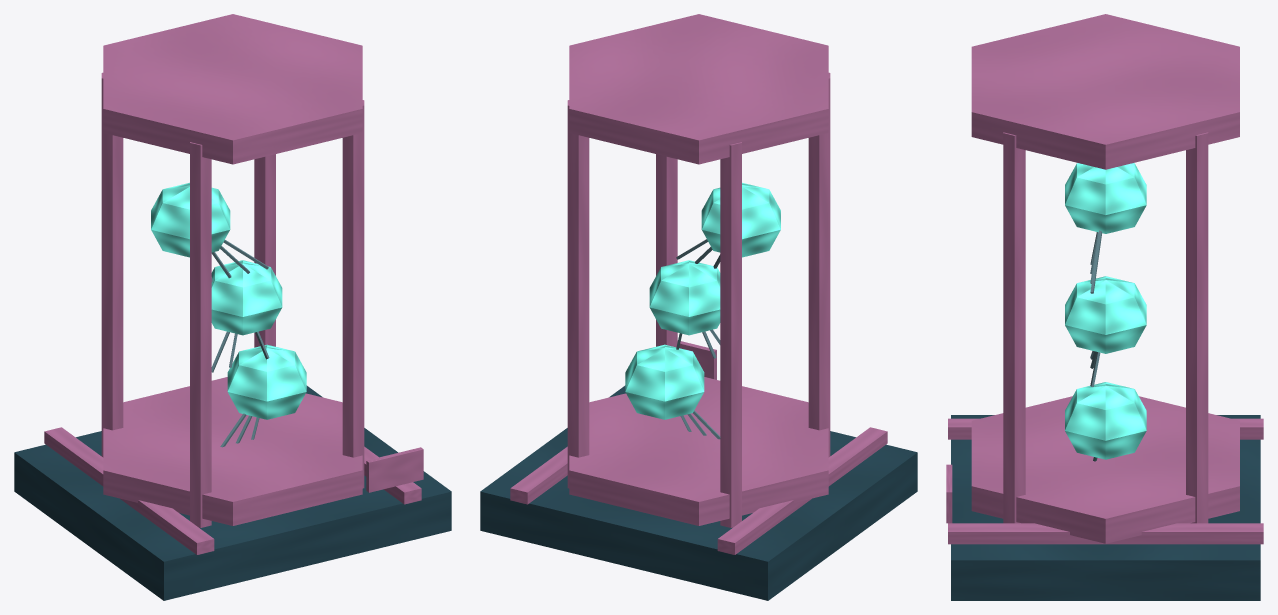
The model's file is atlas100-s070-a02.lod1.glb.
3 views of the same model, side by side, from view 1: azimuth 30°, elevation 25°; view 2: azimuth 150°, elevation 25°; view 3: azimuth 270°, elevation 25° (orthographic). The views are drawn at different scales.
Parts seen in each view (by area): view 1: atlas100-s070-a02:part-004, atlas100-s070-a02:part-000, atlas100-s070-a02:part-003, atlas100-s070-a02:part-007, atlas100-s070-a02:part-005, atlas100-s070-a02:part-009, atlas100-s070-a02:part-013, atlas100-s070-a02:part-018, atlas100-s070-a02:part-001, atlas100-s070-a02:part-023, atlas100-s070-a02:part-011, atlas100-s070-a02:part-028 (+1 smaller); view 2: atlas100-s070-a02:part-004, atlas100-s070-a02:part-000, atlas100-s070-a02:part-003, atlas100-s070-a02:part-009, atlas100-s070-a02:part-011, atlas100-s070-a02:part-007, atlas100-s070-a02:part-013, atlas100-s070-a02:part-018, atlas100-s070-a02:part-001, atlas100-s070-a02:part-023, atlas100-s070-a02:part-005, atlas100-s070-a02:part-002 (+1 smaller); view 3: atlas100-s070-a02:part-004, atlas100-s070-a02:part-003, atlas100-s070-a02:part-000, atlas100-s070-a02:part-005, atlas100-s070-a02:part-011, atlas100-s070-a02:part-002, atlas100-s070-a02:part-013, atlas100-s070-a02:part-018, atlas100-s070-a02:part-023, atlas100-s070-a02:part-001.
Part boxes in pixels (<box>): atlas100-s070-a02:part-004: <box>103,14,362,164</box>; atlas100-s070-a02:part-000: <box>14,385,451,600</box>; atlas100-s070-a02:part-003: <box>103,377,362,525</box>; atlas100-s070-a02:part-007: <box>190,142,211,527</box>; atlas100-s070-a02:part-005: <box>342,100,364,488</box>; atlas100-s070-a02:part-009: <box>101,72,123,457</box>; atlas100-s070-a02:part-013: <box>227,344,306,419</box>; atlas100-s070-a02:part-018: <box>211,260,282,335</box>; atlas100-s070-a02:part-001: <box>44,427,214,554</box>; atlas100-s070-a02:part-023: <box>151,182,230,257</box>; atlas100-s070-a02:part-011: <box>254,154,275,347</box>; atlas100-s070-a02:part-028: <box>366,447,423,492</box>; atlas100-s070-a02:part-004: <box>569,14,828,164</box>; atlas100-s070-a02:part-000: <box>480,385,917,600</box>; atlas100-s070-a02:part-003: <box>569,377,828,525</box>; atlas100-s070-a02:part-009: <box>720,142,741,527</box>; atlas100-s070-a02:part-011: <box>567,100,589,488</box>; atlas100-s070-a02:part-007: <box>808,72,830,457</box>; atlas100-s070-a02:part-013: <box>625,344,704,419</box>; atlas100-s070-a02:part-018: <box>649,260,720,335</box>; atlas100-s070-a02:part-001: <box>717,427,887,554</box>; atlas100-s070-a02:part-023: <box>701,182,780,257</box>; atlas100-s070-a02:part-005: <box>656,154,677,347</box>; atlas100-s070-a02:part-002: <box>510,446,567,504</box>; atlas100-s070-a02:part-004: <box>971,14,1239,169</box>; atlas100-s070-a02:part-003: <box>971,396,1239,543</box>; atlas100-s070-a02:part-000: <box>951,415,1260,600</box>; atlas100-s070-a02:part-005: <box>1003,132,1025,523</box>; atlas100-s070-a02:part-011: <box>1186,132,1208,523</box>; atlas100-s070-a02:part-002: <box>948,523,1263,544</box>; atlas100-s070-a02:part-013: <box>1065,382,1146,459</box>; atlas100-s070-a02:part-018: <box>1065,276,1146,353</box>; atlas100-s070-a02:part-023: <box>1065,163,1146,233</box>; atlas100-s070-a02:part-001: <box>948,418,1263,439</box>.
Size of the model in its own units: 2 by 2.88 by 1.85.
4 materials, 4 textured.
